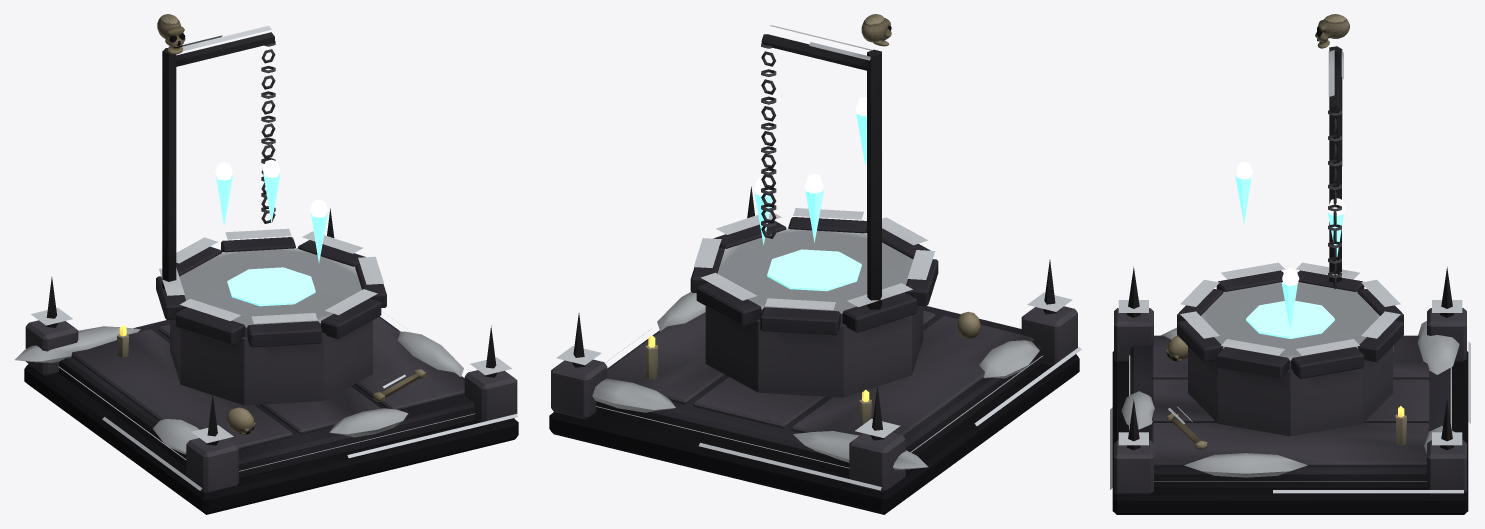
File: ombres-7.glb
3 views of the same model, side by side, from view 1: azimuth 30°, elevation 25°; view 2: azimuth 150°, elevation 25°; view 3: azimuth 270°, elevation 25° (orthographic). The views are drawn at different scales.
Parts seen in each view (by area): view 1: ombres_7_architecture, Fond, ombres_7_crane; view 2: ombres_7_architecture, Fond, ombres_7_crane; view 3: ombres_7_architecture, Fond, ombres_7_crane.
Boxes of the visible parts, <box> form: ombres_7_architecture: <box>15,25,518,514</box>; Fond: <box>227,267,315,306</box>; ombres_7_crane: <box>157,14,185,54</box>; ombres_7_architecture: <box>549,25,1081,514</box>; Fond: <box>767,249,861,291</box>; ombres_7_crane: <box>861,14,891,46</box>; ombres_7_architecture: <box>1110,46,1470,514</box>; Fond: <box>1246,301,1334,338</box>; ombres_7_crane: <box>1315,14,1349,48</box>.
Bounding box in the file's own units: 0.8655 × 0.9649 × 0.811.
5 materials, 1 textured.
